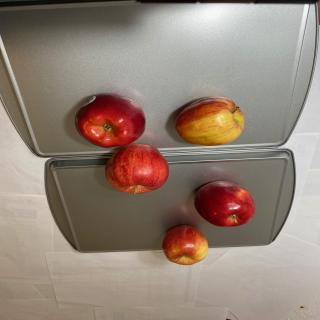Apple: (74, 93, 146, 148), (174, 96, 244, 146), (104, 143, 170, 194), (193, 180, 256, 227), (162, 224, 208, 266)
